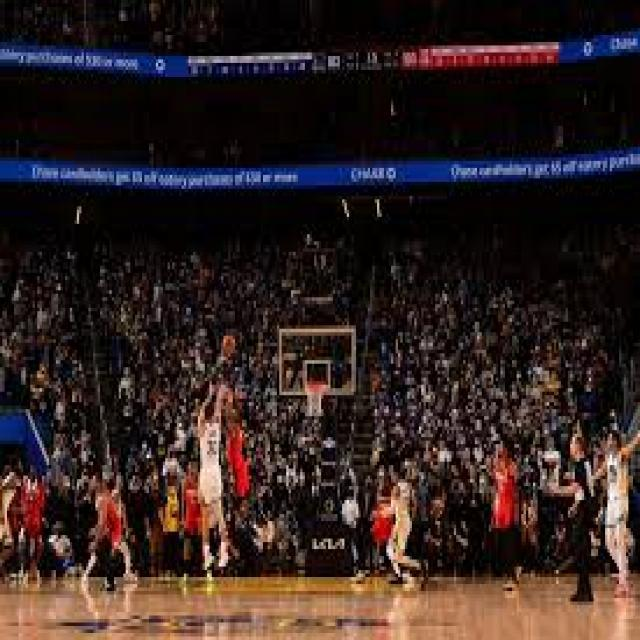rim: (221, 332, 235, 353)
